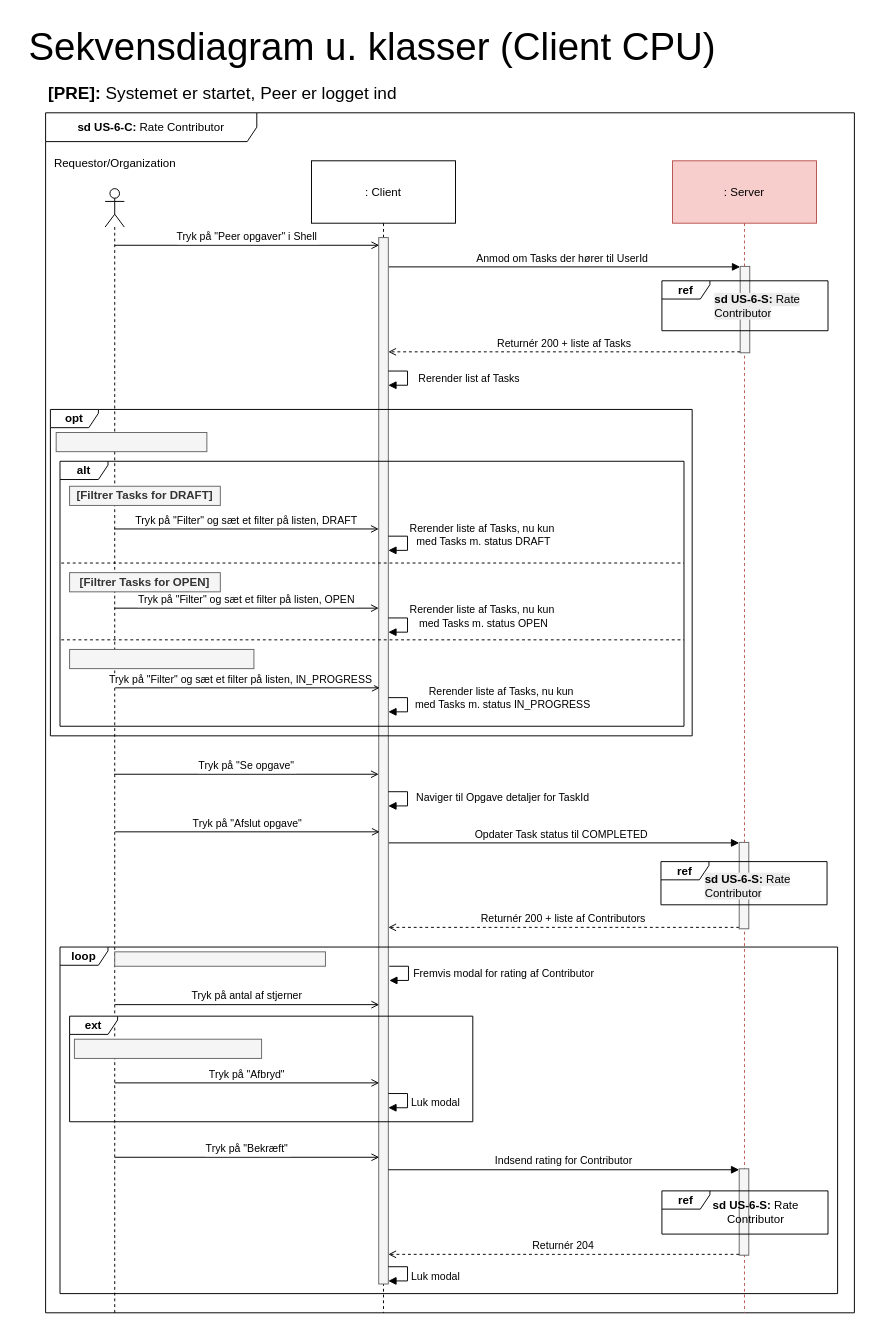
Some shapes in this 871 by 1330 pixel diagram are drawn without their labels. The shapes that lost their labels are listed below. From the top down, each one's centre as x and y in pixels, then its label:
(x=131, y=442): [ Filtrer Tasks ]
(x=161, y=658): [ Filtrer Tasks for IN_PROGRESS ]
(x=219, y=958): [FOR contributor IN list_of_participants]
(x=167, y=1048): [ User trykker "Afbryd" ]
